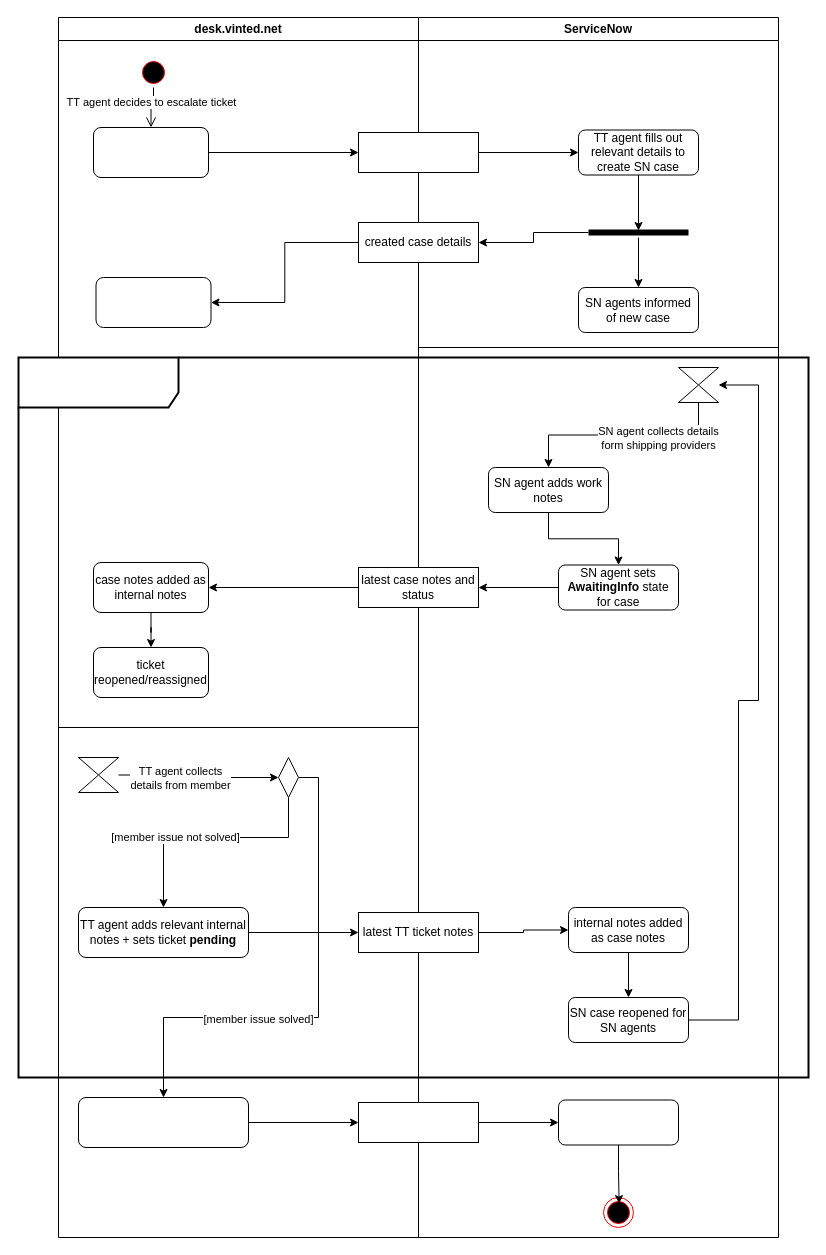
Image size: 826x1255. Some labels were removed from this diagram. The shapes that lost their labels are listed below. From the top down, each one's centre as x and y in pixels, then its label:
the point at 150,152: TT agent uses Escalations to SN CTA
the point at 418,152: ticket details + SN case type
the point at 153,302: ticket unassigned and put to pending state
the point at 413,717: investigation loop
the point at 163,1122: TT agent marks ticket as solved
the point at 418,1122: latest TT status and notes
the point at 618,1122: SN case closed
